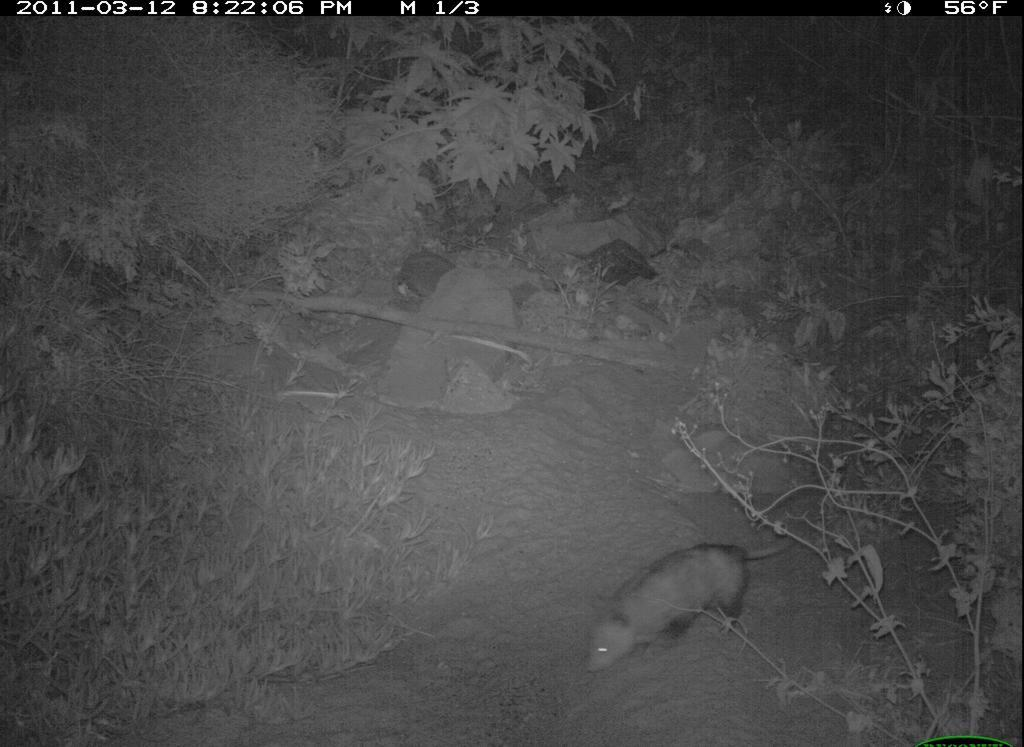opossum: (570, 511, 831, 702)
